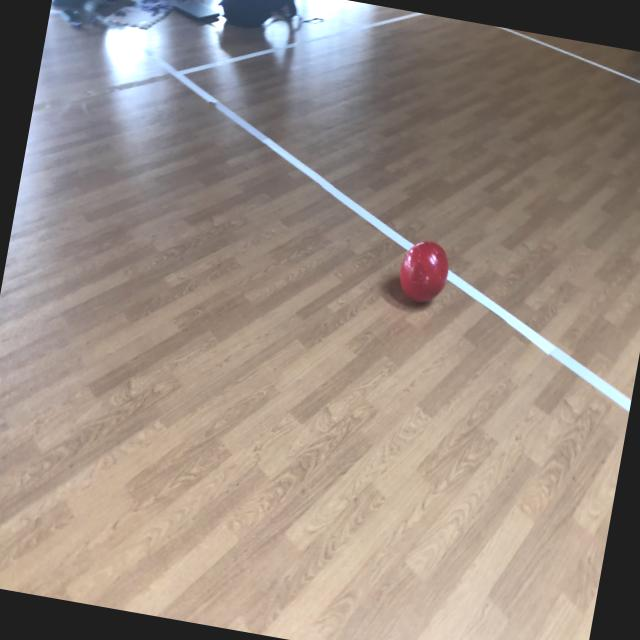red_ball: (394, 237, 452, 310)
